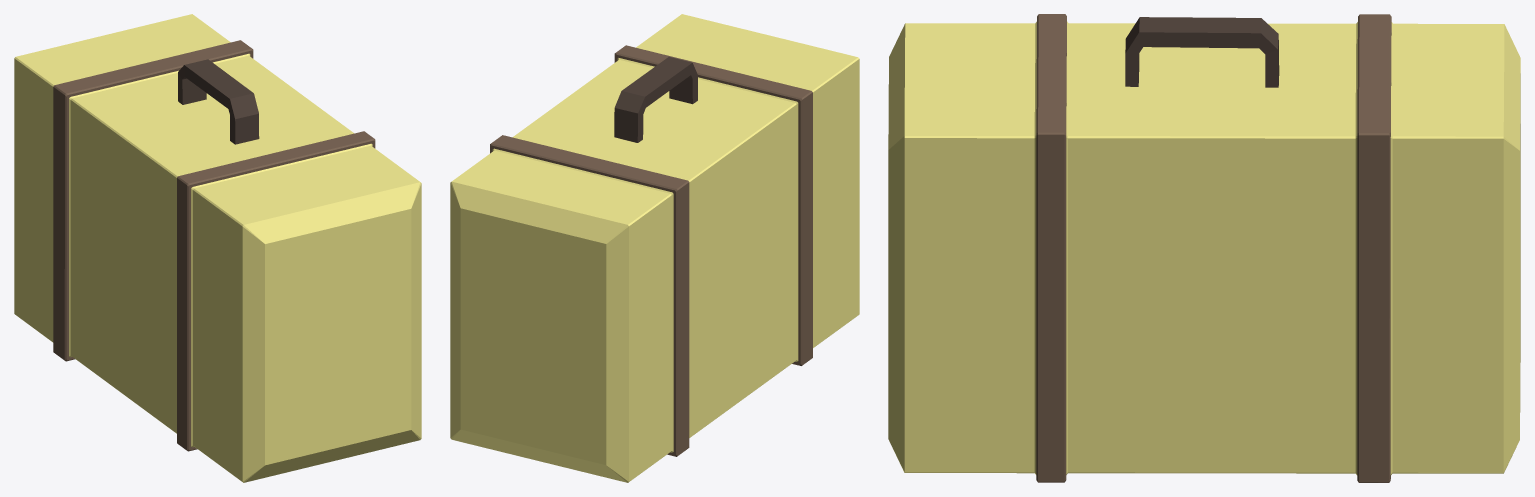
File: Suitcase_1.fbx
3 renders of one model, left to right at view 1: azimuth 30°, elevation 25°; view 2: azimuth 150°, elevation 25°; view 3: azimuth 270°, elevation 25°, orthographic. The views are drawn at different scales.
Visible parts, largest first — view 1: Suitcase_1; view 2: Suitcase_1; view 3: Suitcase_1.
Boxes of the visible parts, x1,y1,x2,y2 form: Suitcase_1: [14, 14, 421, 482]; Suitcase_1: [450, 14, 859, 482]; Suitcase_1: [888, 14, 1520, 482].
Bounding box in the file's own units: 52.56 × 117 × 81.04.
